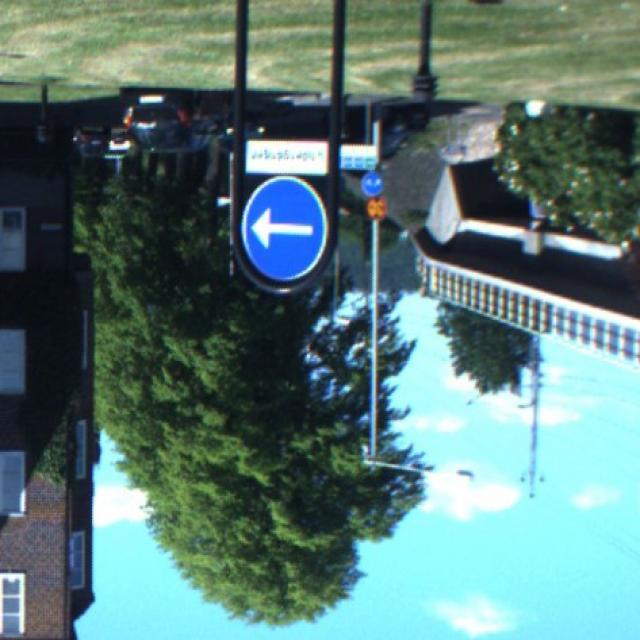Turn Left: (233, 176, 348, 279)
